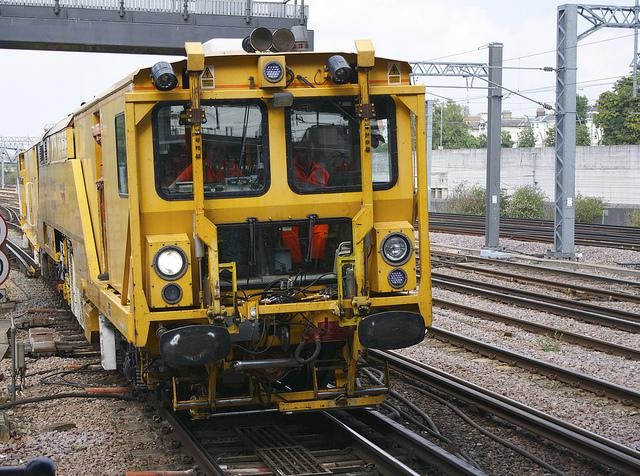Train: (17, 24, 436, 416)
